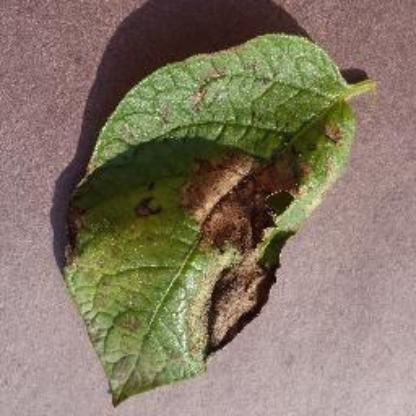Late-Blight: (32, 30, 372, 408)
